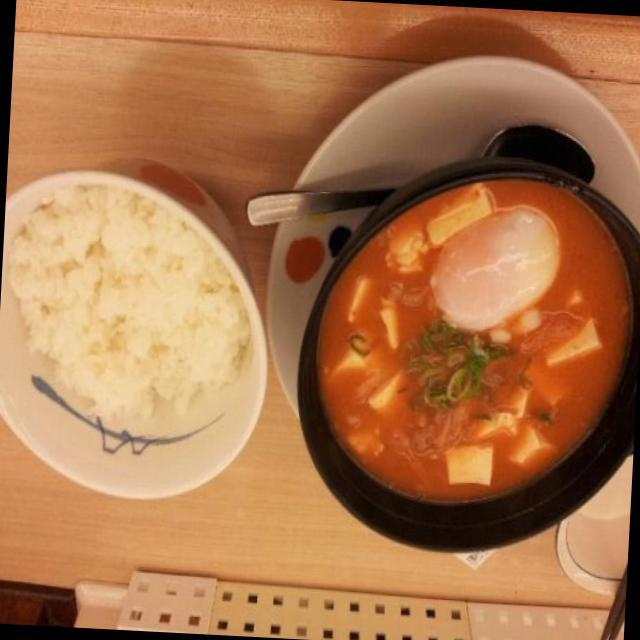Rice: (20, 170, 236, 444)
